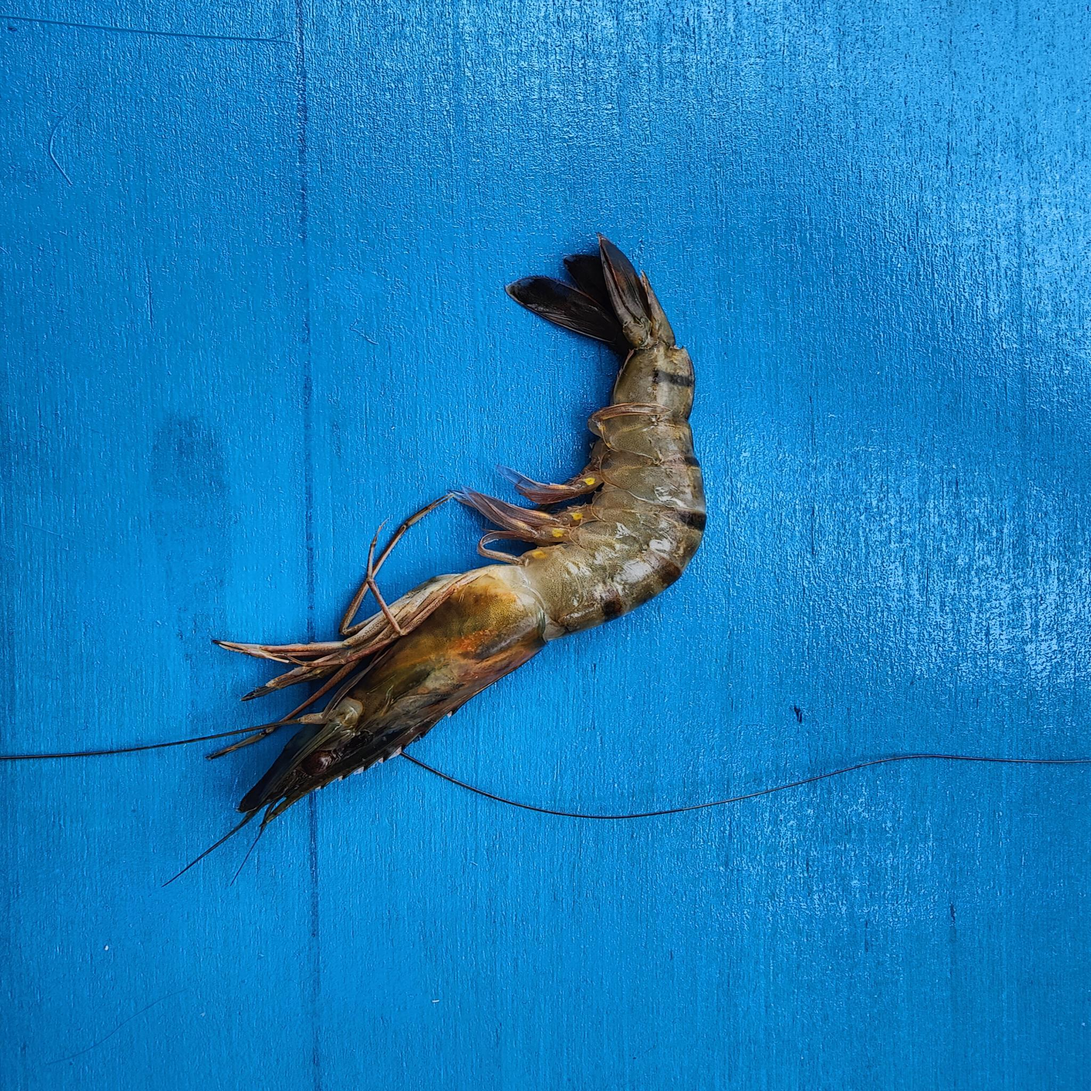blackgill: (378, 589, 495, 668)
